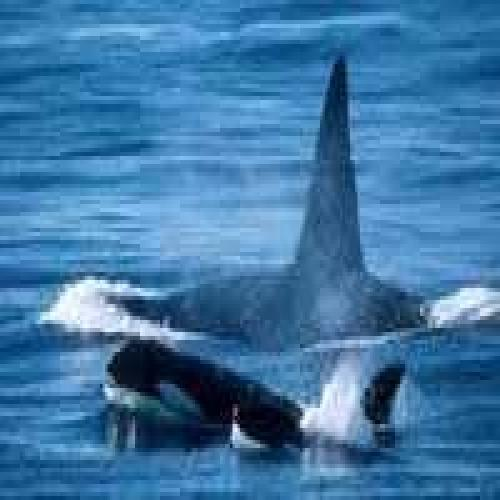killer_whale-endangered: (109, 40, 455, 356), (81, 281, 331, 494)
